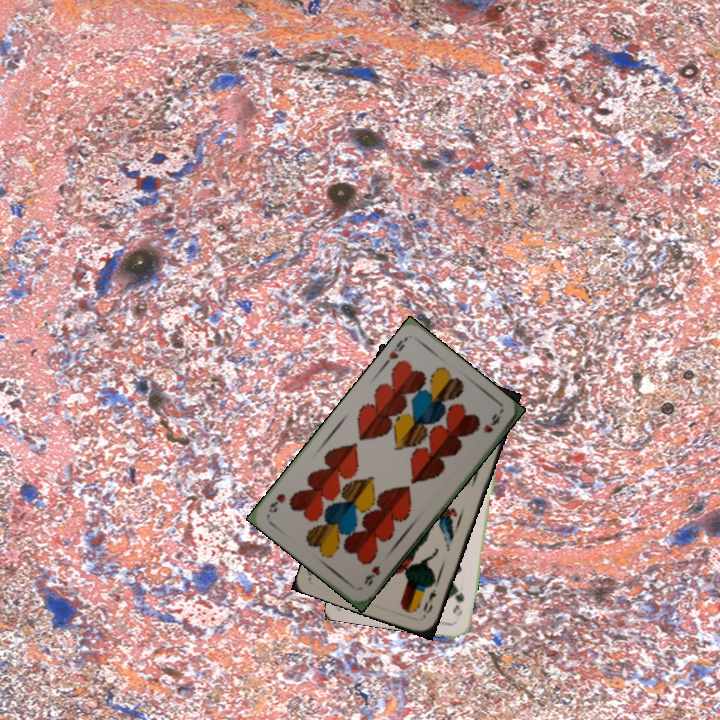EO: (419, 585, 439, 616)
G9: (450, 584, 467, 618)
H9: (380, 336, 407, 368), (360, 562, 383, 588)
